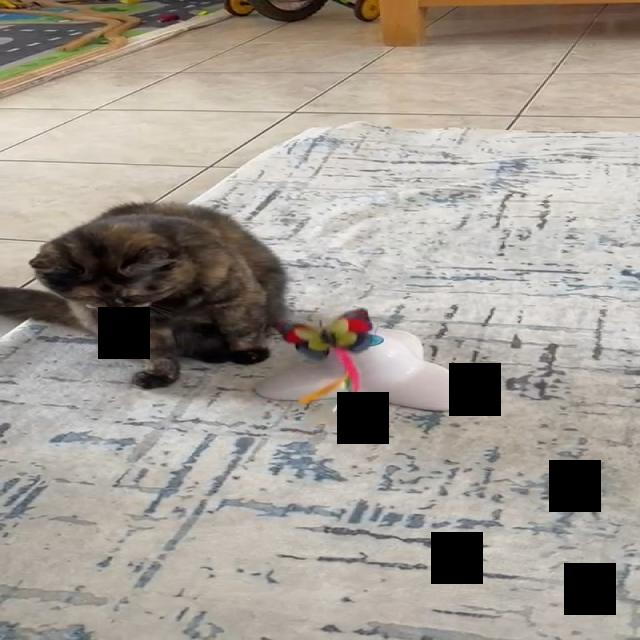authorized: (27, 199, 292, 366)
